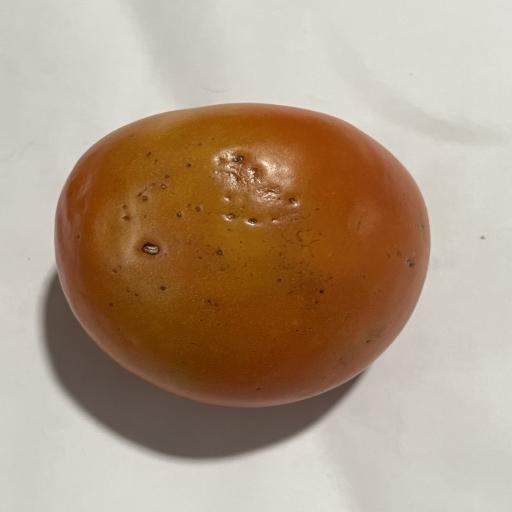unripe: (56, 104, 429, 406)
